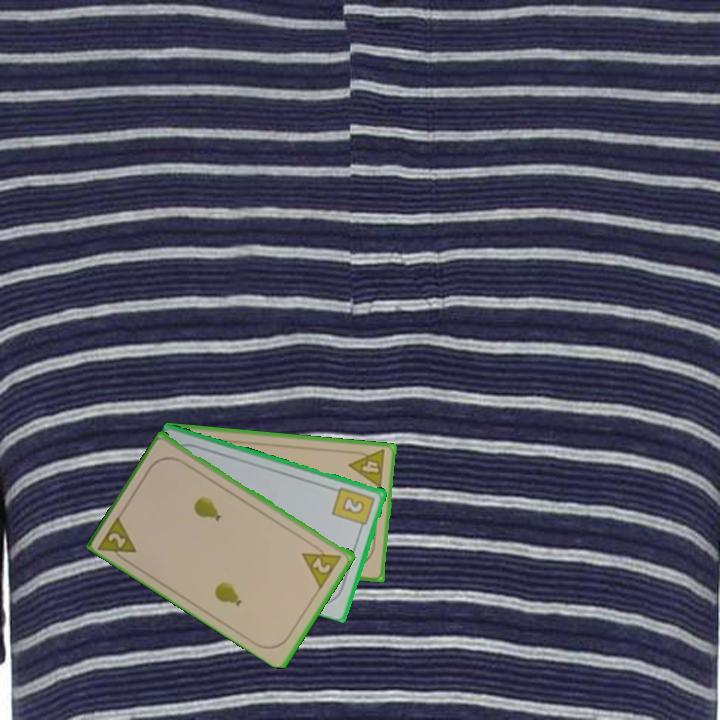2b: (329, 483, 378, 533)
2p: (95, 511, 140, 566), (299, 540, 345, 590)
4p: (346, 446, 388, 491)
